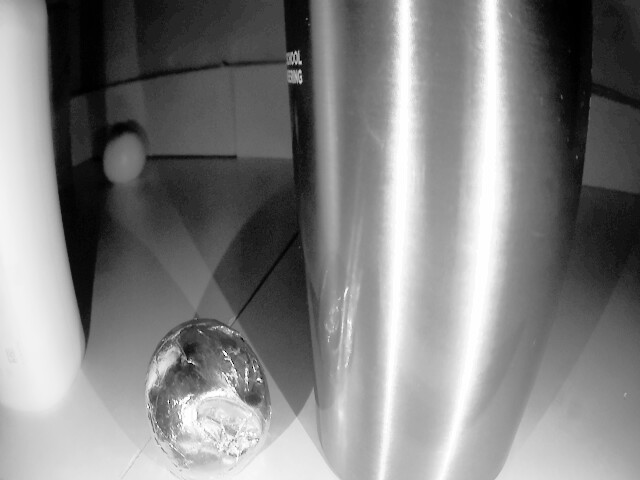silver: (146, 318, 275, 476)
